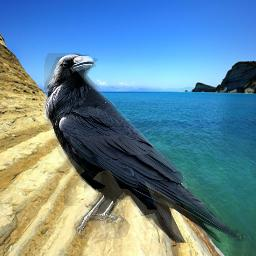Crow: (44, 53, 243, 243)
